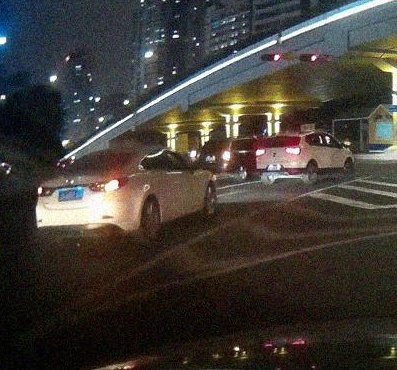L_light: (36, 184, 56, 196), (255, 148, 266, 157)
R_light: (90, 177, 128, 193), (285, 147, 301, 155)
T_light: (89, 155, 105, 158), (276, 136, 286, 138)
night-no: (255, 132, 303, 184)
night-right: (35, 149, 137, 250)
